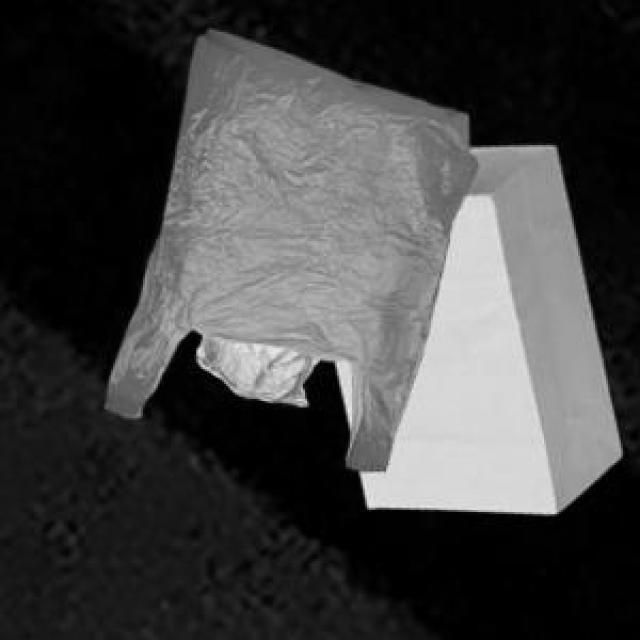paper: (332, 143, 617, 510)
